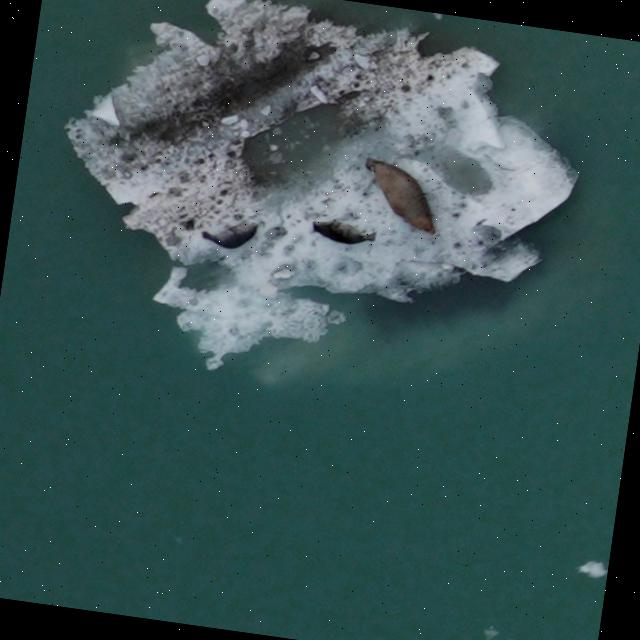seal: (354, 154, 446, 240), (197, 210, 264, 258), (306, 213, 381, 251)
